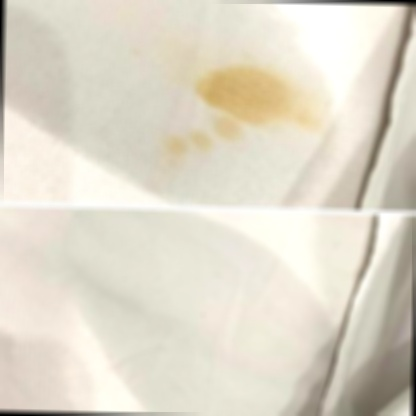coffee: (198, 71, 290, 115), (215, 120, 241, 139)
